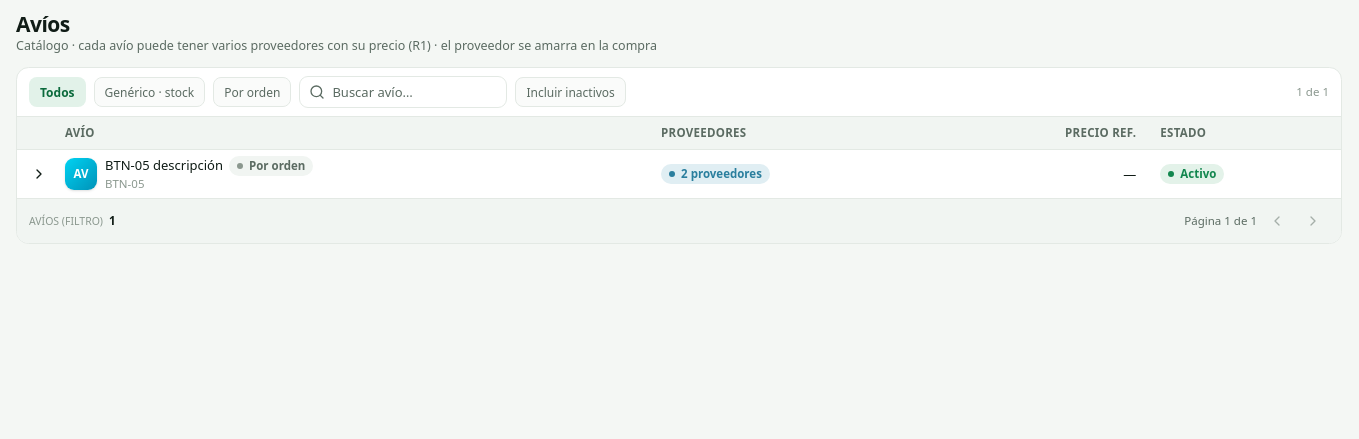
Test: <AviosPagina> › muestra los proveedores y precios del avío al expandir el renglón (R1)
Click the row with test id "fila-avio".
click(679, 174)  # box [17,149,1341,198]
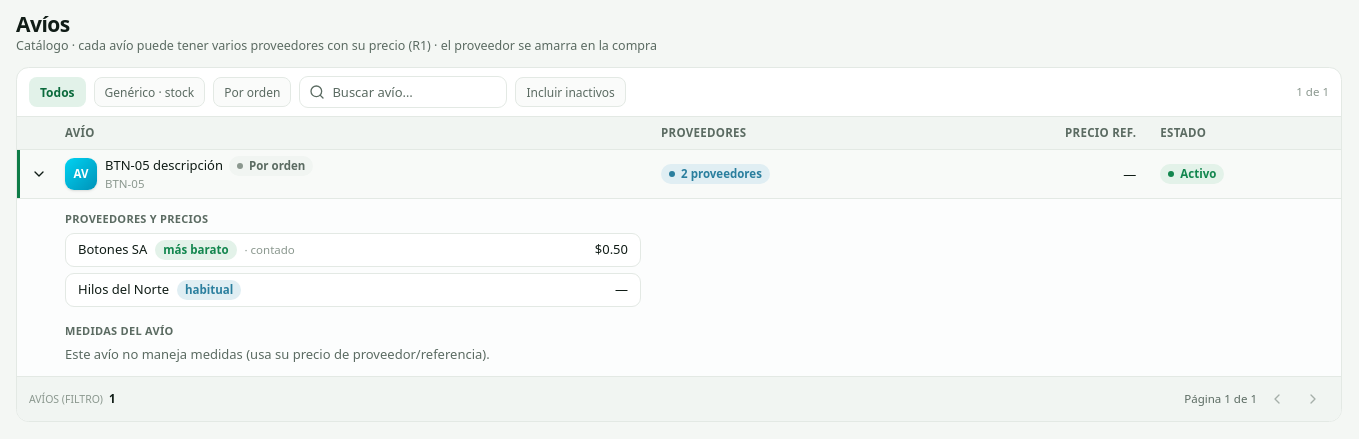
Result: the text "Botones SA" is shown at [78,240,147,259]
Result: the text "Hilos del Norte" is shown at [78,280,169,299]
Result: the list item with test id "avio-proveedor-habitual" shows "Hilos del Norte" at [78,280,169,298]
